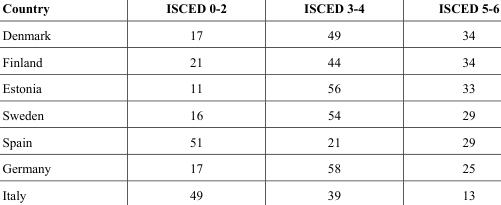table: (1, 0, 498, 201)
table column: (107, 0, 264, 201), (264, 0, 400, 201), (1, 0, 107, 201), (400, 0, 498, 201)
table column header: (1, 0, 498, 21)
table row: (1, 21, 498, 48), (1, 74, 498, 101), (1, 127, 498, 154), (1, 154, 498, 181), (1, 48, 498, 74), (1, 101, 498, 127), (1, 0, 498, 21), (1, 181, 498, 201)
